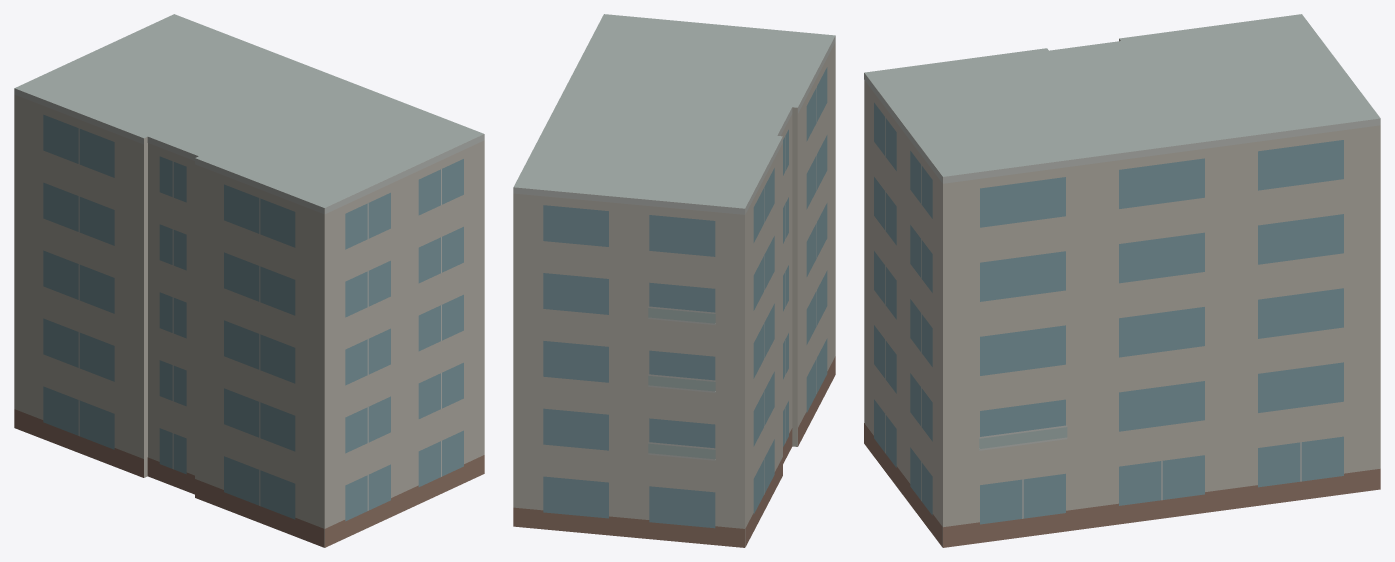
Rendered from survey-upis-32611006.glb.
3 views of the same model, side by side, from view 1: azimuth 30°, elevation 25°; view 2: azimuth 150°, elevation 25°; view 3: azimuth 270°, elevation 25° (orthographic). The views are drawn at different scales.
Parts seen in each view (by area): view 1: survey-upis-32611006.tmp; view 2: survey-upis-32611006.tmp; view 3: survey-upis-32611006.tmp.
Boxes of the visible parts, x1,y1,x2,y2 form: survey-upis-32611006.tmp: [14, 14, 484, 547]; survey-upis-32611006.tmp: [513, 14, 835, 547]; survey-upis-32611006.tmp: [864, 14, 1380, 547].
Bounding box in the file's own units: 12.44 × 13.2 × 16.67.
